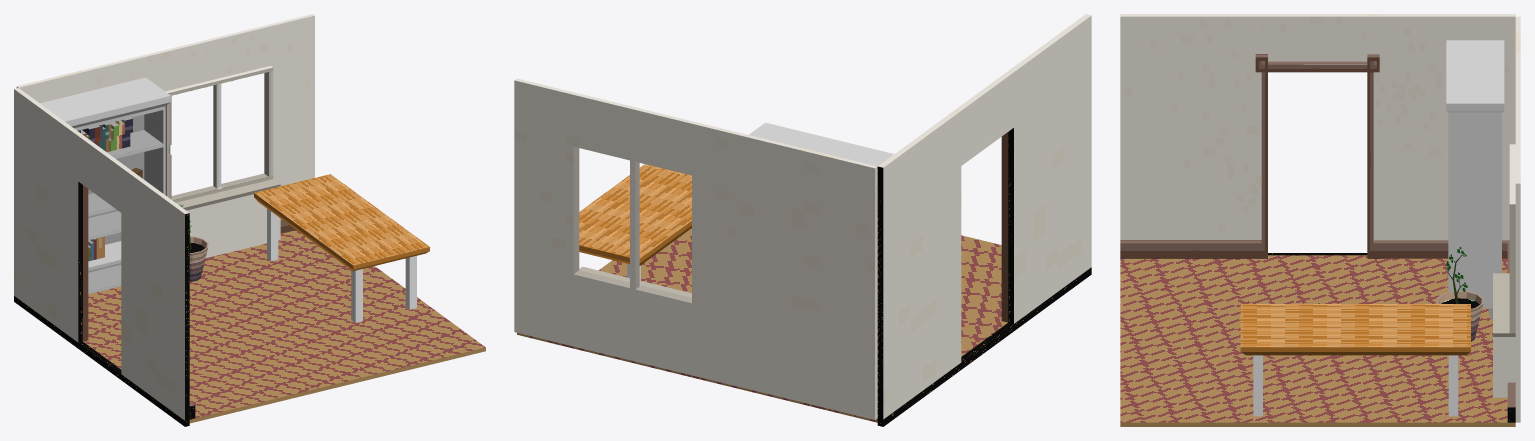
Rendered from pixel_room.glb.
3 renders of one model, left to right at view 1: azimuth 30°, elevation 25°; view 2: azimuth 150°, elevation 25°; view 3: azimuth 270°, elevation 25°, orthographic. The views are drawn at different scales.
Visible parts, largest first — view 1: Floor, SideWall, BackWall, Cube.007, Cube.001, Cube, Cube.008, Cube.002, Cylinder, Cube.006; view 2: BackWall, SideWall, Floor, Cube.007, Cube; view 3: SideWall, Floor, Cube, Cube.007, BackWall, Cube.008, Cylinder.
Part boxes in pixels (x1,y1,x2,y2): Floor: (83,230,485,423); SideWall: (14,88,195,426); BackWall: (16,14,314,257); Cube.007: (254,174,429,271); Cube.001: (74,106,165,294); Cube: (40,77,170,128); Cube.008: (267,208,416,322); Cube.002: (78,114,144,151); Cylinder: (189,236,208,281); Cube.006: (88,232,121,261); BackWall: (514,78,877,419); SideWall: (877,14,1091,426); Floor: (517,228,1007,422); Cube.007: (579,164,691,265); Cube: (749,122,894,166); SideWall: (1120,14,1515,258); Floor: (1120,255,1515,426); Cube: (1446,40,1504,319); Cube.007: (1240,304,1470,355); BackWall: (1493,16,1520,422); Cube.008: (1253,355,1458,416); Cylinder: (1436,291,1483,341).
Size of the model in its own units: 4.11 by 2.78 by 4.1.
8 materials, 6 textured.
